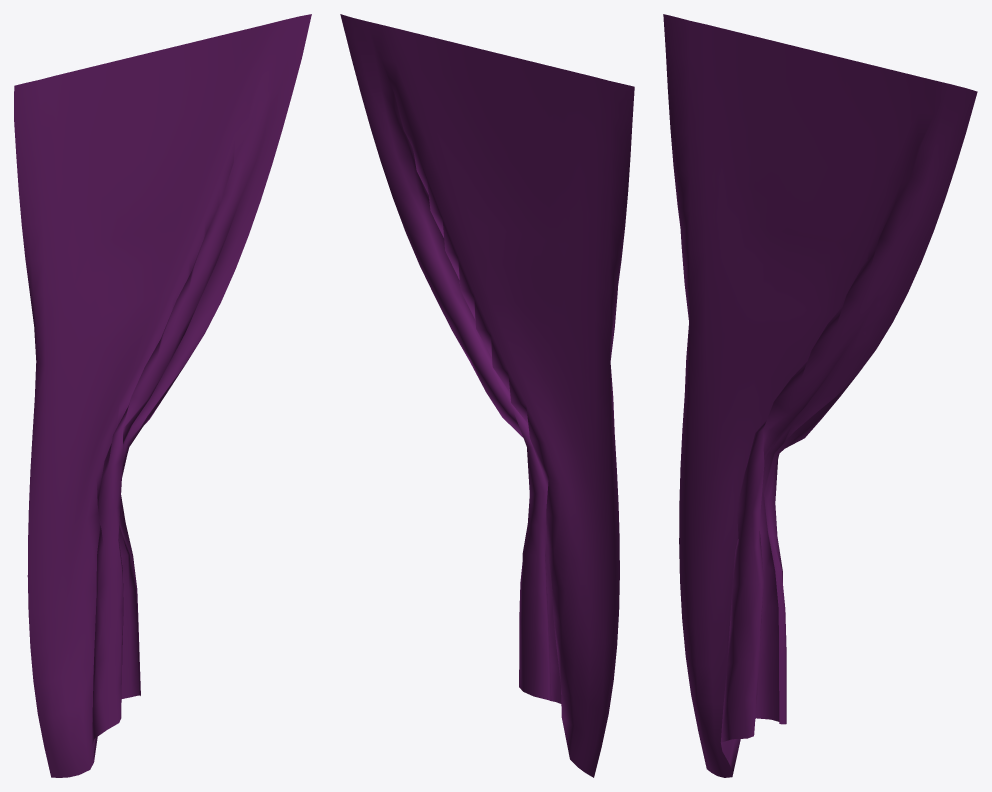
3 views of the same model, side by side, from view 1: azimuth 30°, elevation 25°; view 2: azimuth 150°, elevation 25°; view 3: azimuth 330°, elevation 25° (orthographic). The views are drawn at different scales.
Parts seen in each view (by area): view 1: CurtainLeftRoyalPurple; view 2: CurtainLeftRoyalPurple; view 3: CurtainLeftRoyalPurple.
Part boxes in pixels (bbox=[...]): CurtainLeftRoyalPurple: bbox=[14, 14, 311, 777]; CurtainLeftRoyalPurple: bbox=[340, 14, 634, 777]; CurtainLeftRoyalPurple: bbox=[663, 14, 977, 777].
Size of the model in its own units: 0.874 by 1.98 by 0.0844.
Materials: 1 (1 with a texture image).
